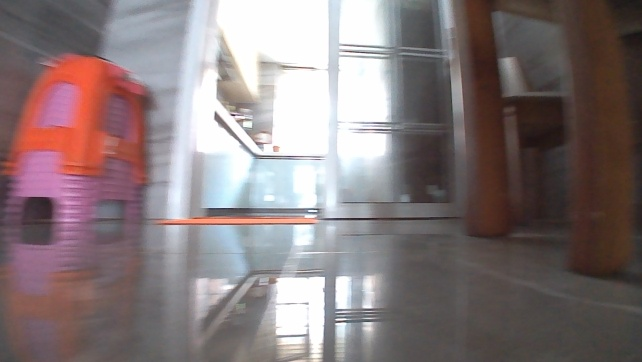blanket: (154, 212, 315, 227)
cupboard: (196, 96, 344, 217)
